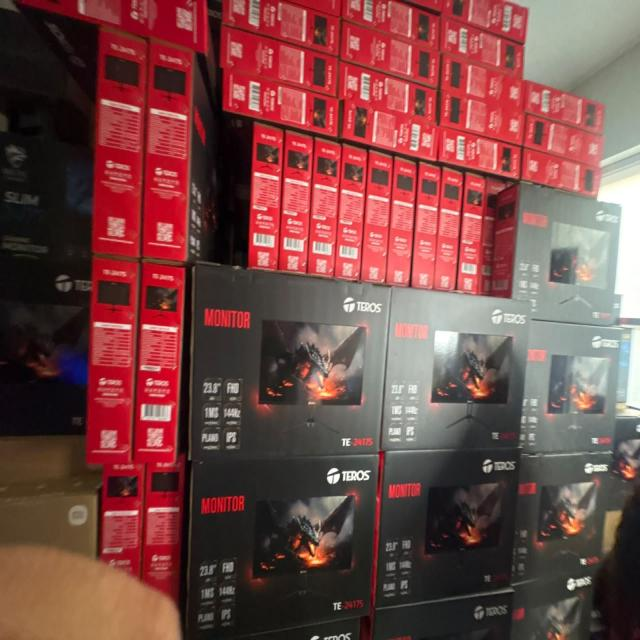caja-monitor: (186, 263, 388, 461), (184, 456, 379, 639), (382, 286, 533, 450), (377, 446, 518, 603), (491, 183, 623, 324), (142, 40, 219, 263), (0, 258, 92, 438), (511, 448, 614, 588), (520, 323, 623, 457), (91, 30, 145, 261), (2, 134, 92, 260), (87, 263, 141, 463), (135, 258, 185, 458), (221, 67, 339, 139), (222, 25, 336, 95), (372, 588, 513, 639), (1, 477, 98, 551), (222, 1, 342, 58), (340, 22, 439, 89), (338, 60, 437, 125), (342, 99, 441, 162), (100, 462, 146, 587), (143, 457, 181, 606), (510, 574, 597, 639), (441, 16, 525, 79), (339, 0, 441, 51), (248, 124, 283, 270), (441, 55, 523, 111), (441, 94, 526, 148), (280, 130, 312, 272), (439, 128, 520, 182), (309, 136, 339, 279), (524, 83, 604, 136), (522, 148, 601, 201), (387, 154, 418, 286), (525, 116, 604, 167), (361, 153, 392, 280), (337, 147, 366, 280), (442, 0, 528, 44), (434, 168, 464, 292), (412, 162, 439, 290), (457, 176, 486, 291), (480, 179, 505, 295)
